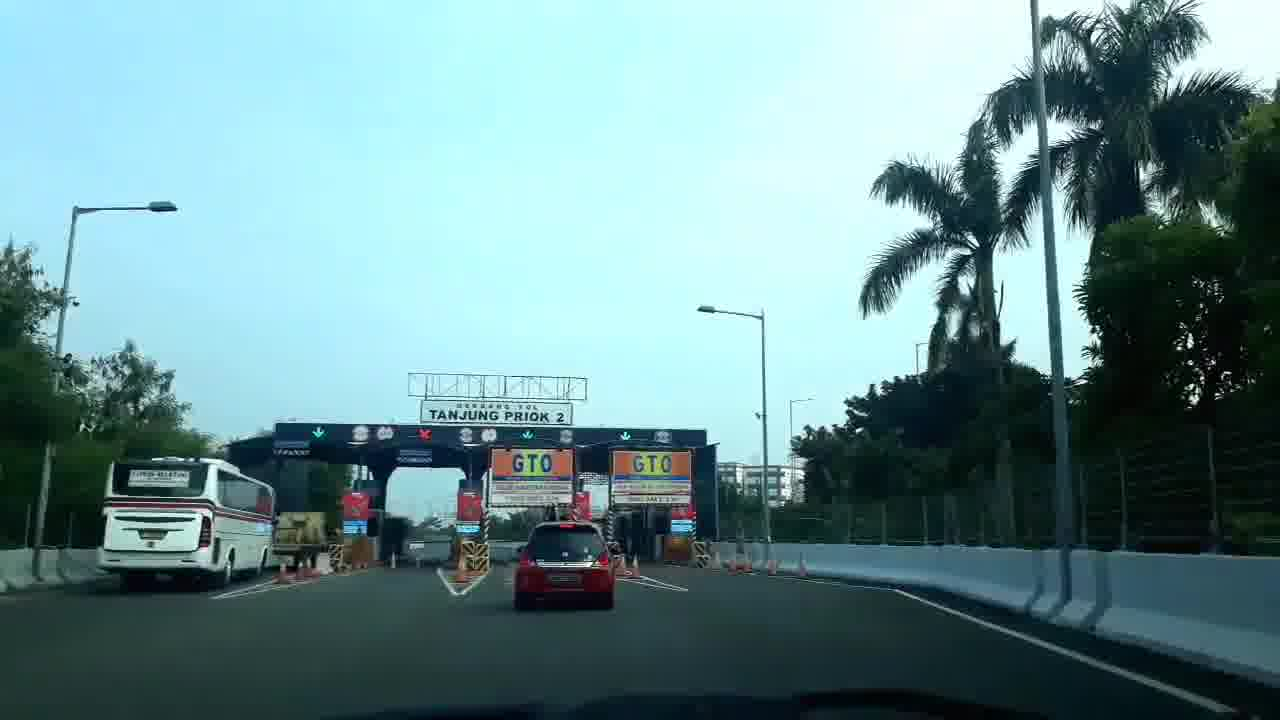plate_positive: (548, 574, 578, 583)
